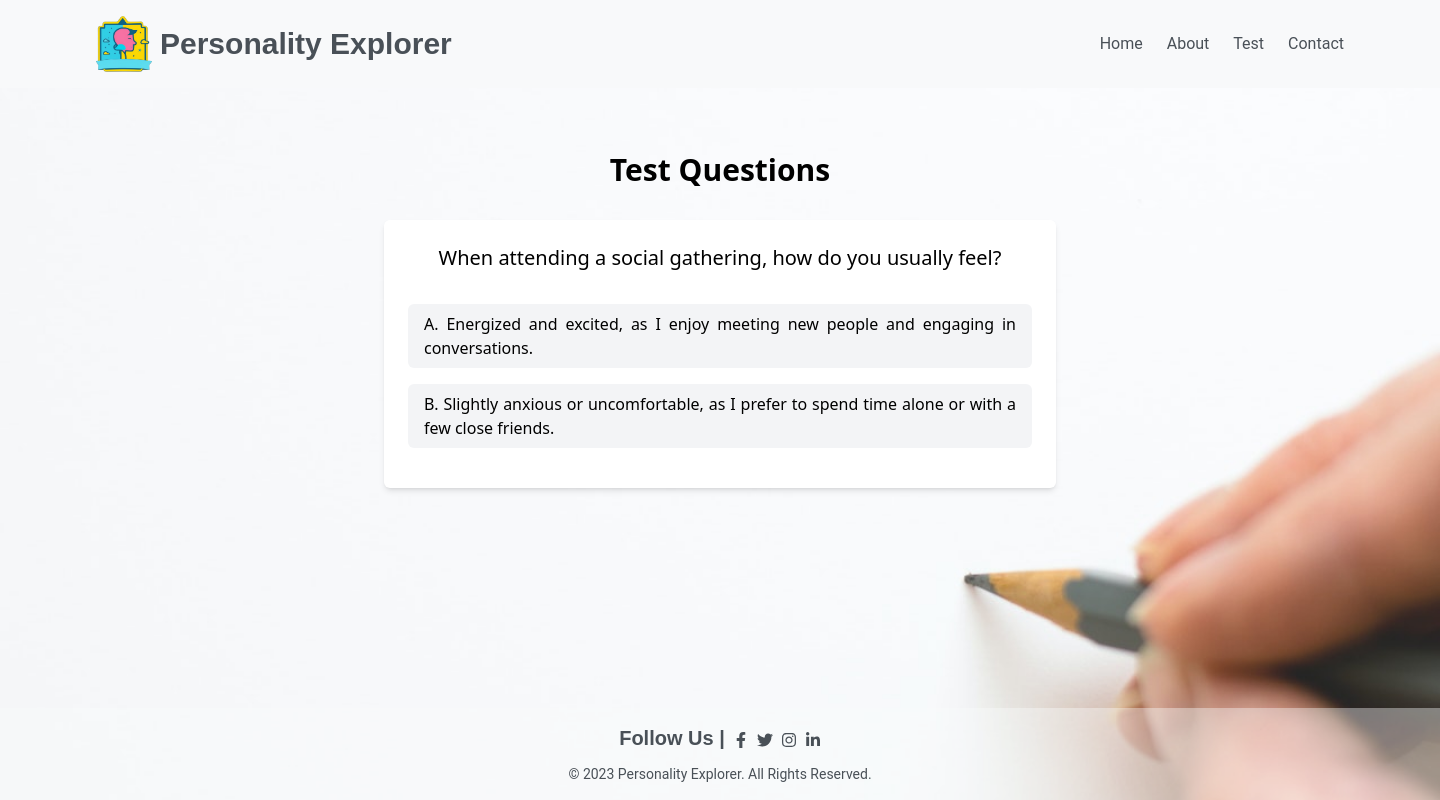
Test: Test Page › Test behavior › renders the alert when all questions are answered and renders the modal results when clicked on it
Click the 5th list item at (720, 336), box [408, 304, 1032, 368]
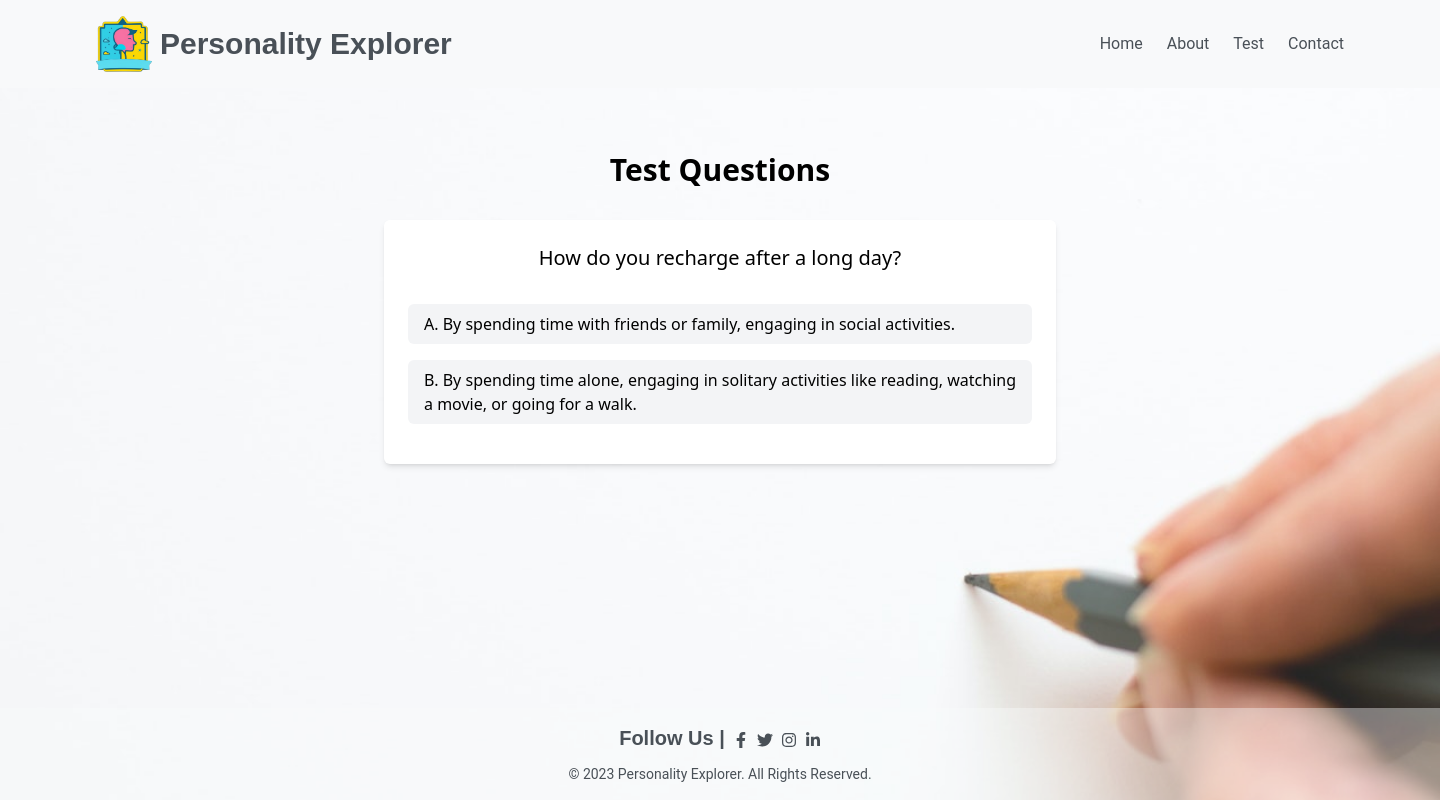
Click the 6th list item at (720, 392), box [408, 360, 1032, 424]
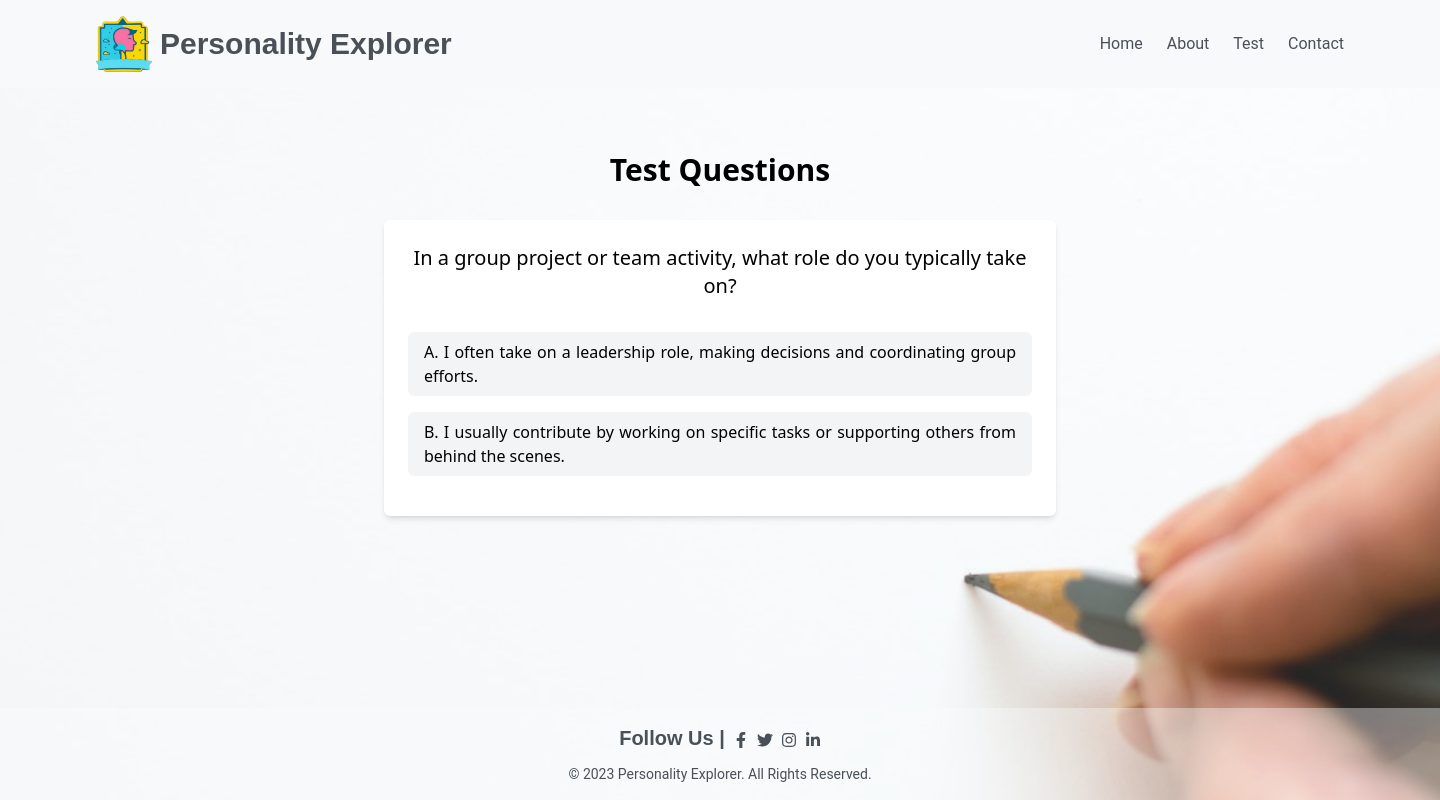
Click the 5th list item at (720, 364), box [408, 332, 1032, 396]
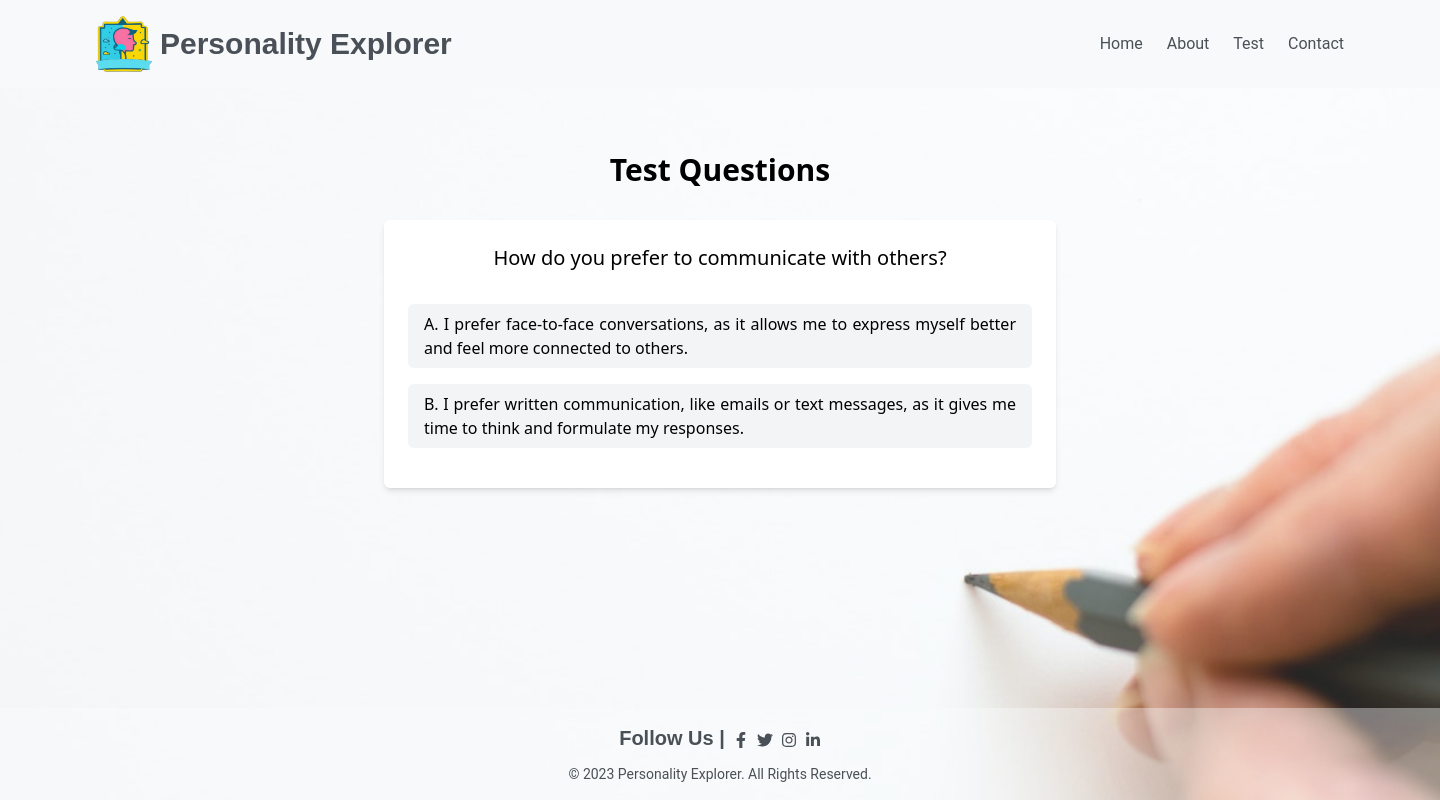
Click the 6th list item at (720, 416), box [408, 384, 1032, 448]
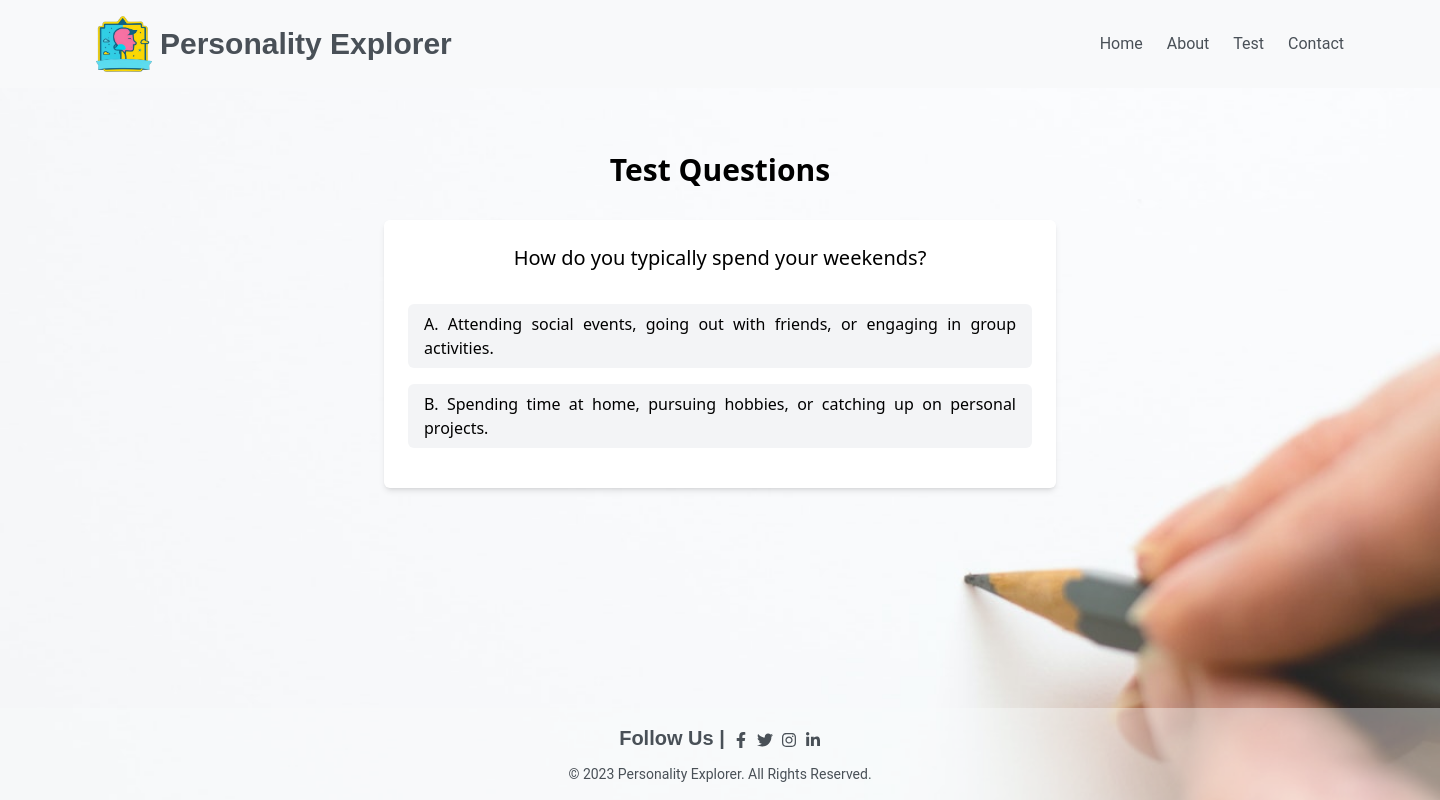
Click the 5th list item at (720, 336), box [408, 304, 1032, 368]
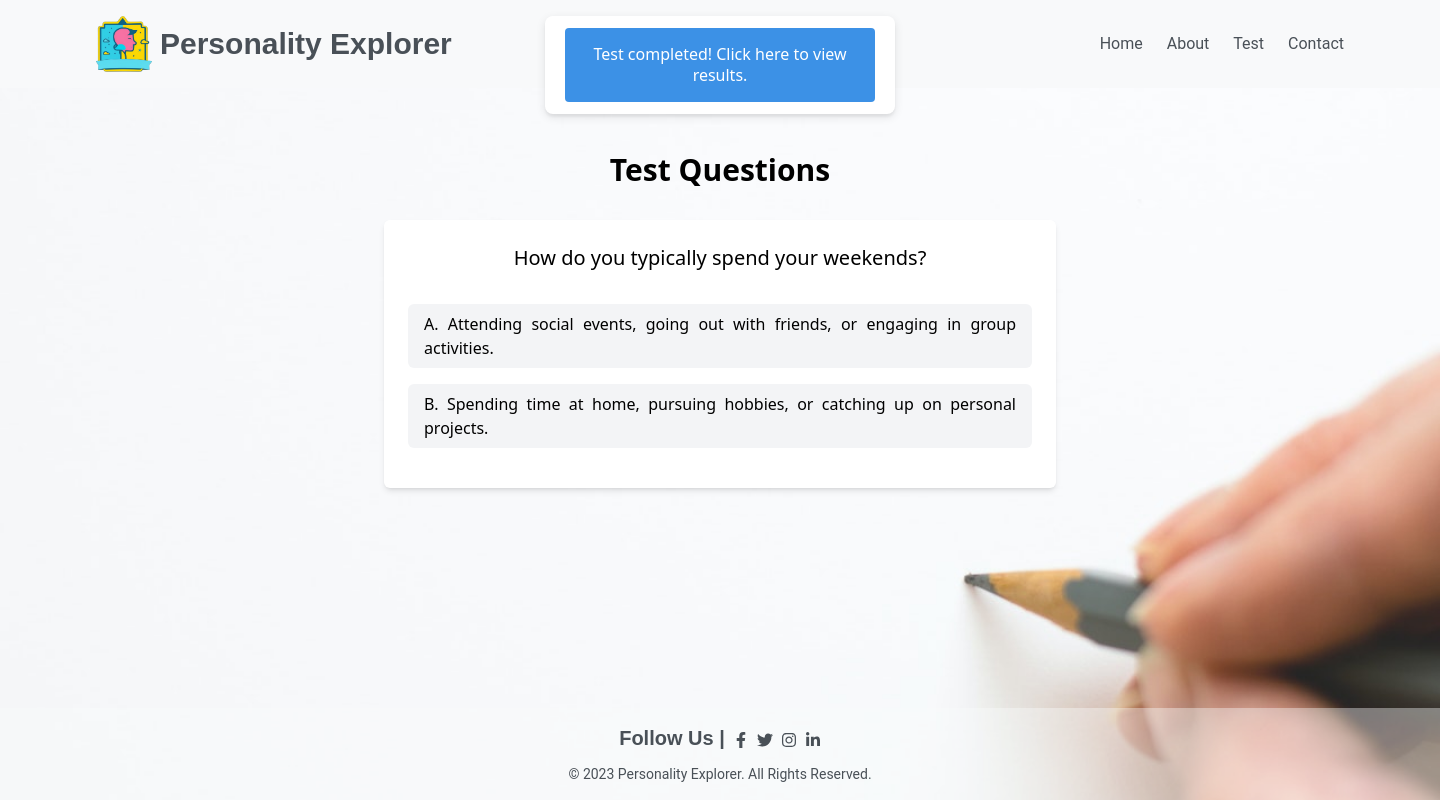
Now the element showing "Test completed! Click here to view results." is shown
Click the element showing "Test completed! Click here to view results." at (720, 65), box [565, 28, 875, 102]
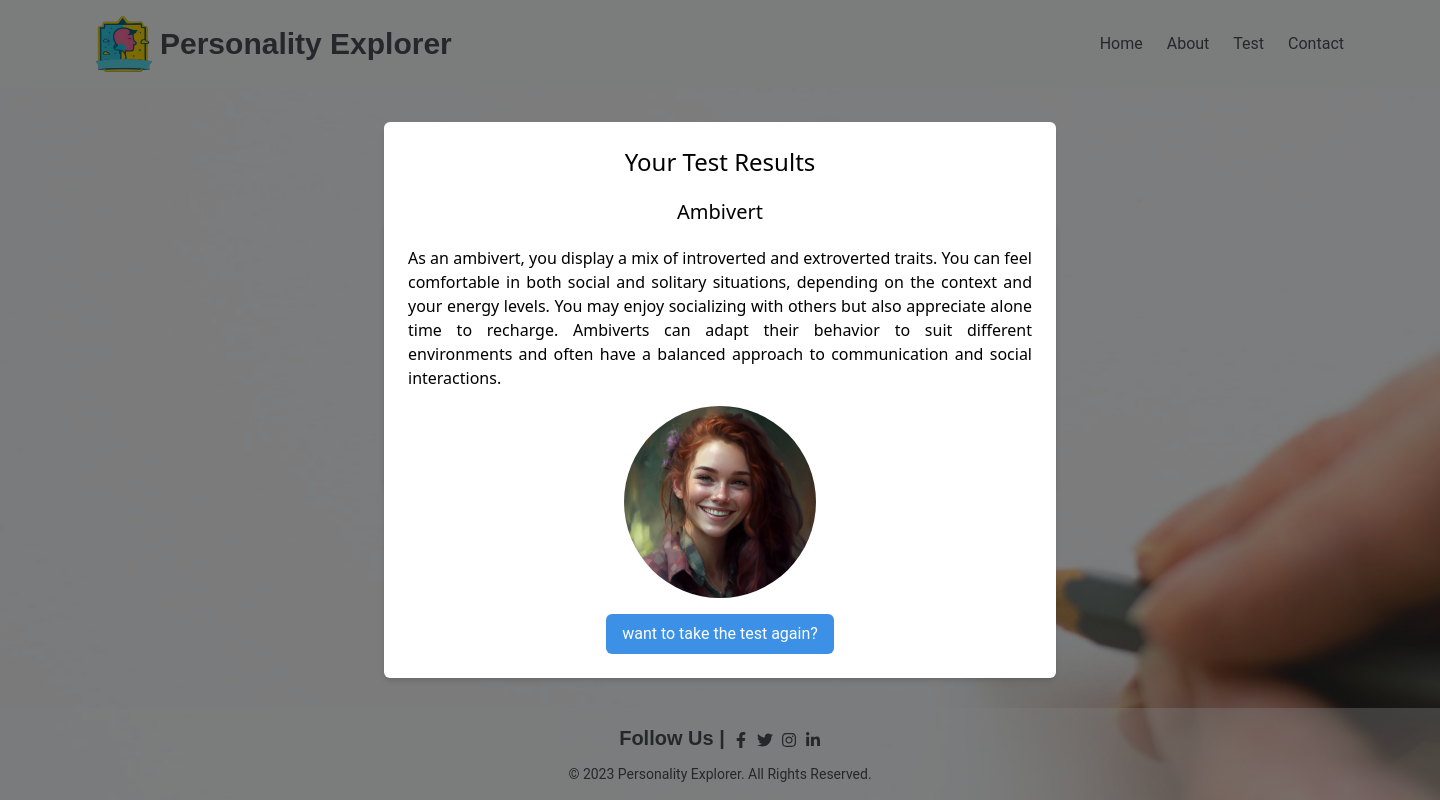
Now the heading "Your Test Results" is shown, box [625, 145, 815, 178]
Now the heading with class "mb-2" reads "Your Test Results", box [625, 145, 816, 178]
Now the button with class "block" reads "want to take the test again?", box [606, 614, 834, 654]
